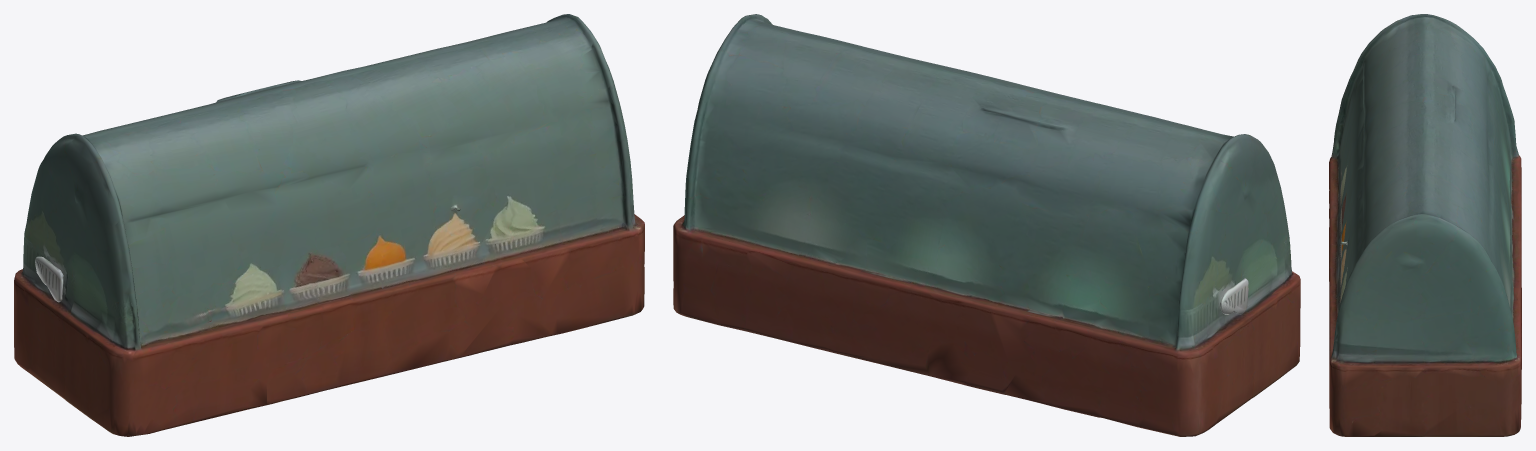
Rendered from cold-stoned-display-case.glb.
The picture shows the model from 3 angles, left to right: view 1: azimuth 30°, elevation 25°; view 2: azimuth 150°, elevation 25°; view 3: azimuth 270°, elevation 25°; orthographic projection. The views are drawn at different scales.
Bounding box in the file's own units: 2 × 0.9305 × 0.7515.
Materials: 1 (1 with a texture image).
